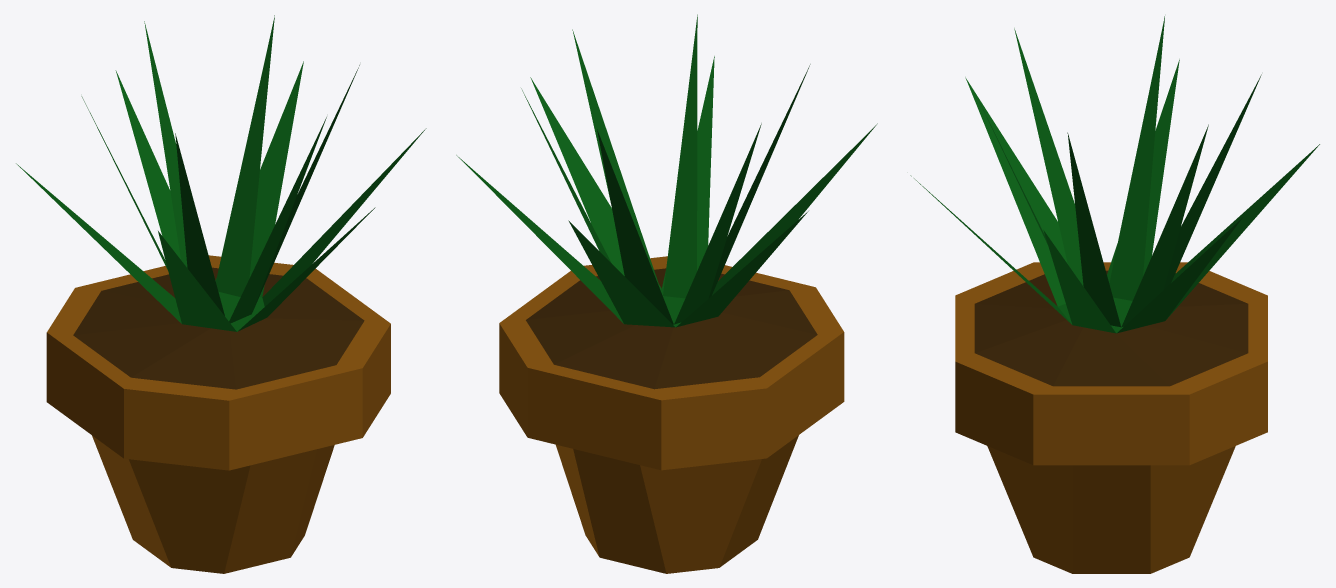
Rendered from obj_potted_fern_3_0.obj.
3 renders of one model, left to right at view 1: azimuth 30°, elevation 25°; view 2: azimuth 150°, elevation 25°; view 3: azimuth 270°, elevation 25°, orthographic.
Size of the model in its own units: 0.6484 by 0.8281 by 0.6641.
